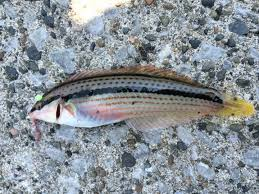bera: (20, 58, 258, 150)
